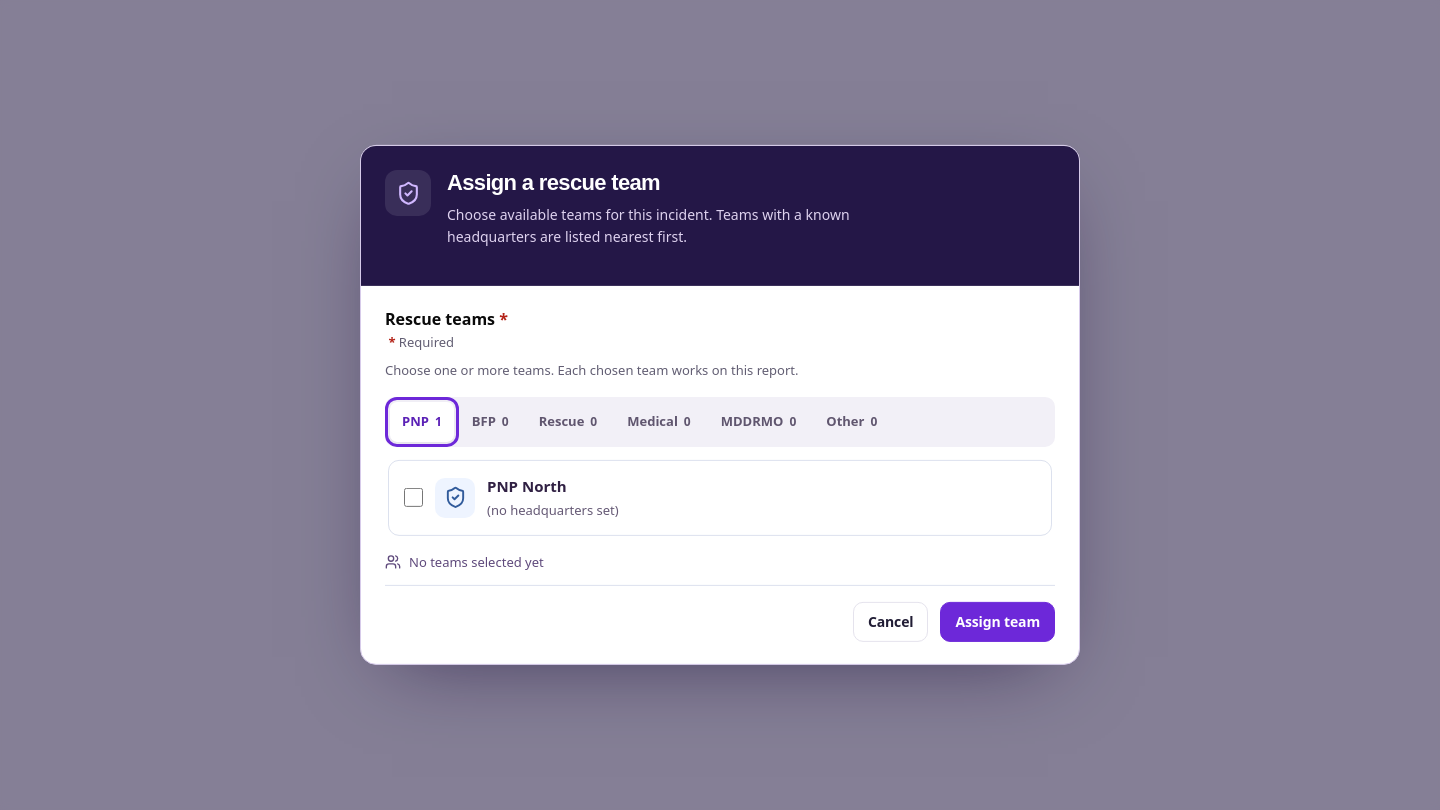
Test: AssignTeamDialog › moves between identity tabs with the keyboard and announces the selection
Press Arrowright
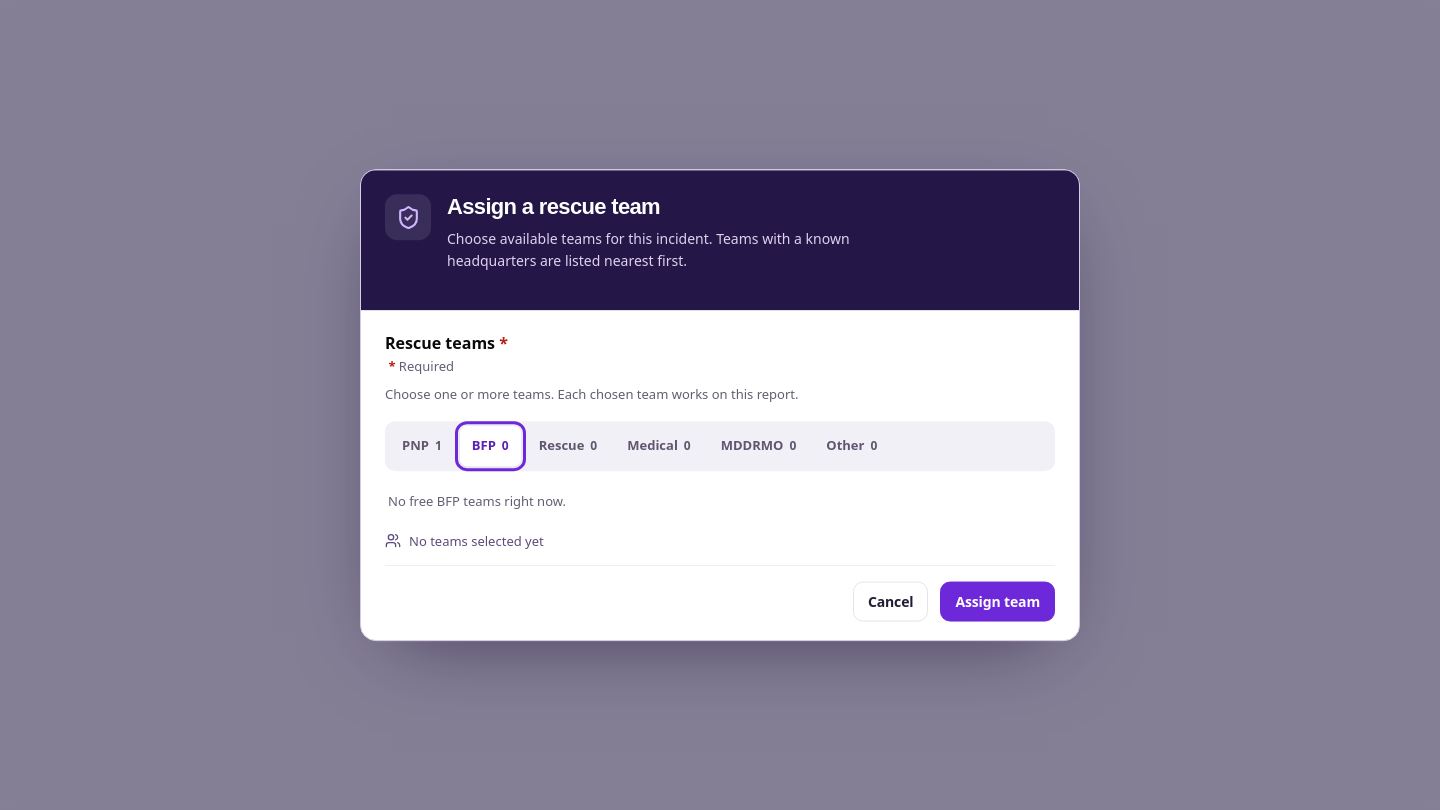
Now the tab "BFP0" is selected, box [460,426,521,466]
Press Home
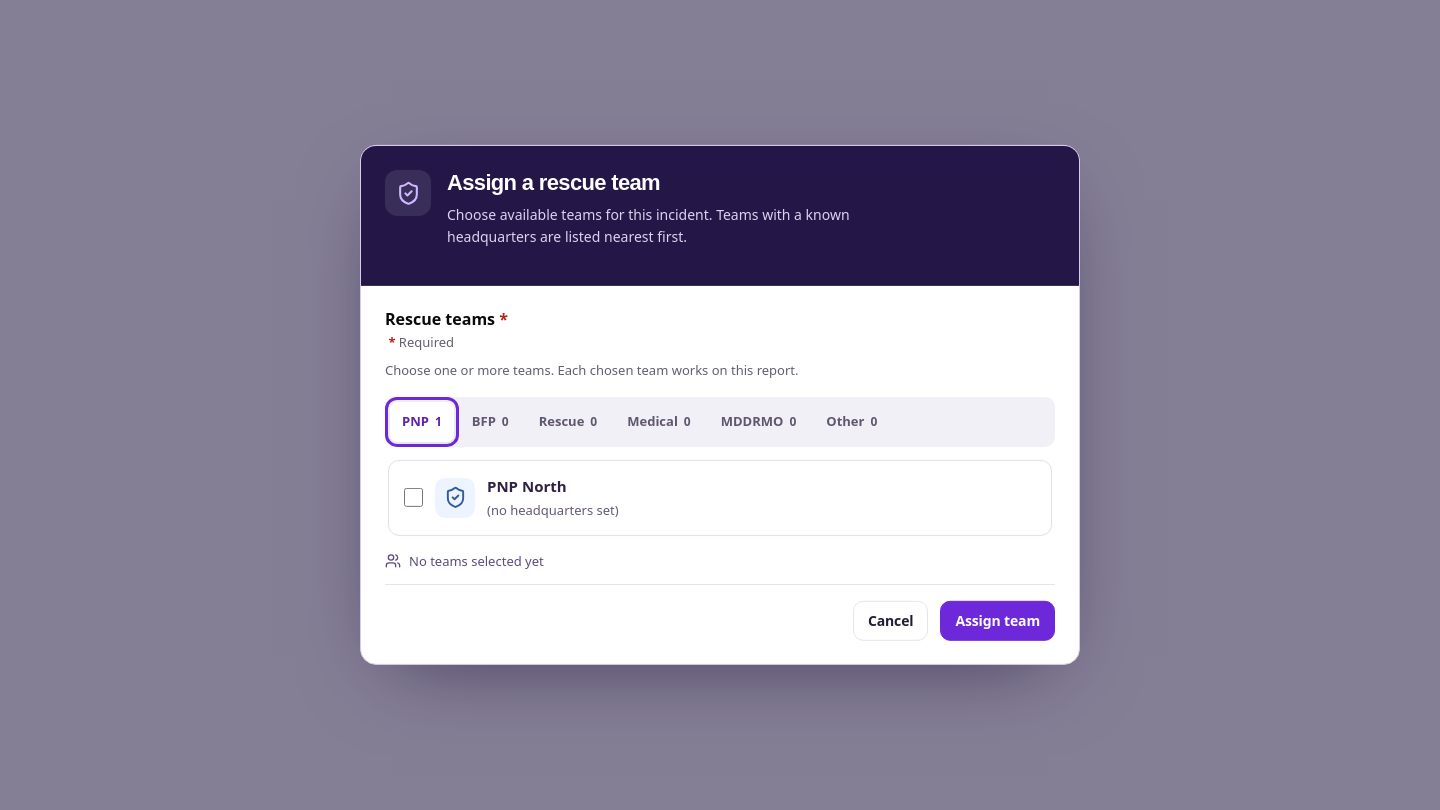
Click the checkbox labelled "PNP North (no headquarters set)" at (414, 498), box [404,488,423,507]
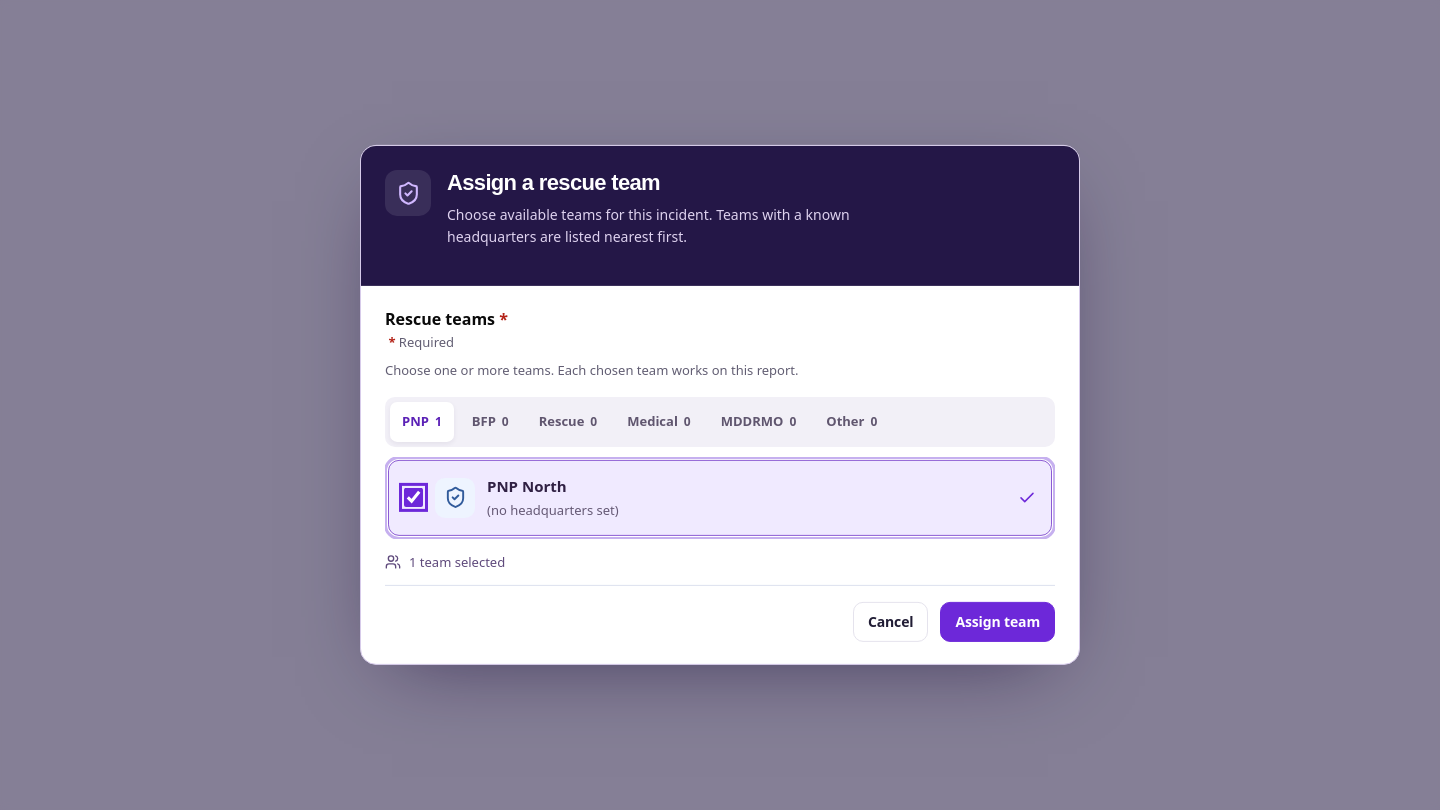
Now the message reads "1 team selected", box [409,553,505,571]
